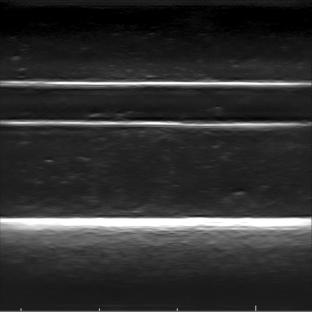vessel: (4, 79, 309, 129)
